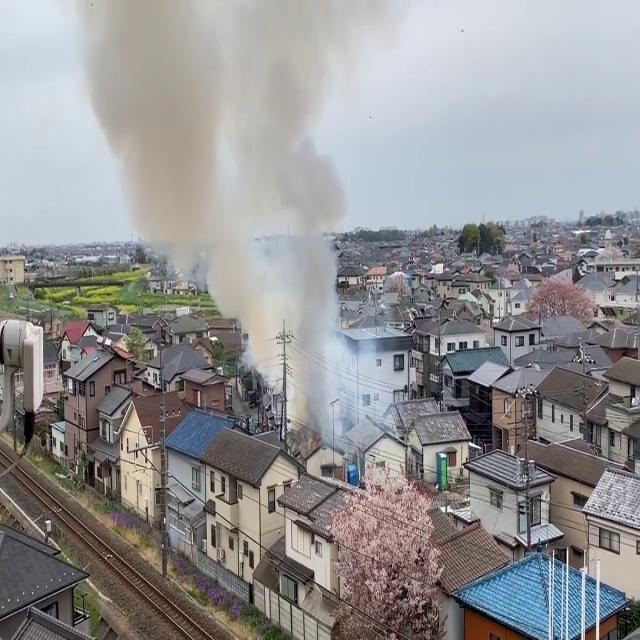Smoke: (78, 0, 376, 444)
